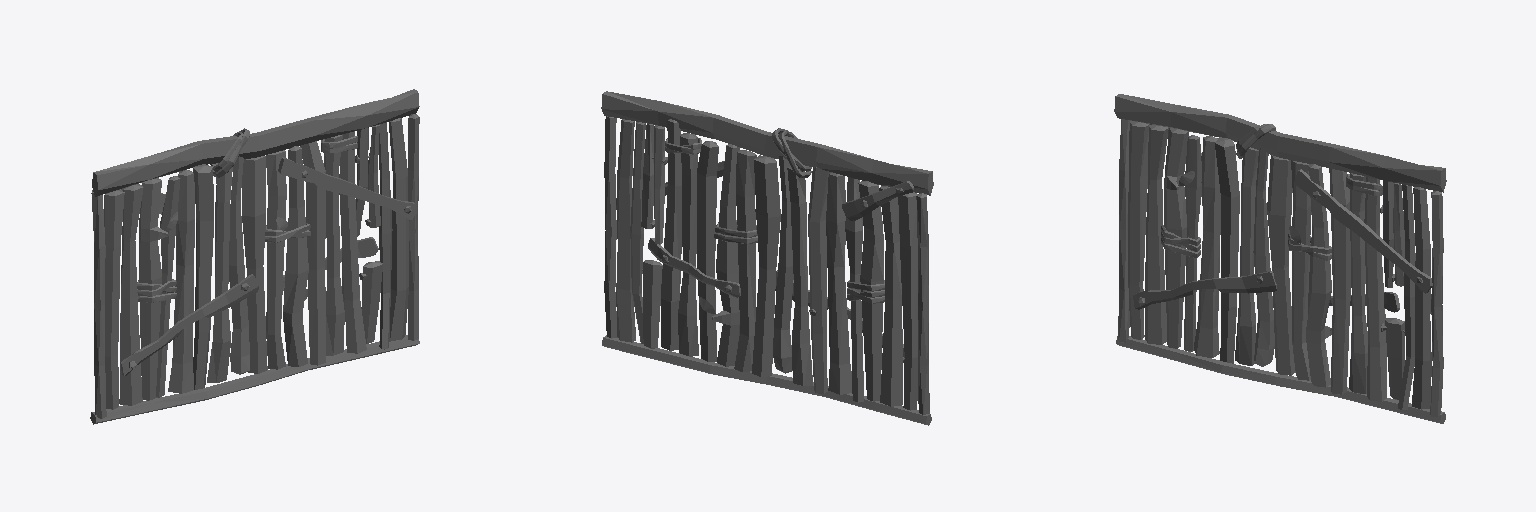
3 views of the same model, side by side, from view 1: azimuth 30°, elevation 25°; view 2: azimuth 150°, elevation 25°; view 3: azimuth 330°, elevation 25° (orthographic).
Visible parts, largest first — view 1: PBW_W1_Solid_Untitled; view 2: PBW_W1_Solid_Untitled; view 3: PBW_W1_Solid_Untitled.
Boxes of the visible parts, x1,y1,x2,y2 form: PBW_W1_Solid_Untitled: [90, 89, 419, 424]; PBW_W1_Solid_Untitled: [601, 91, 933, 425]; PBW_W1_Solid_Untitled: [1114, 94, 1446, 423].
Bounding box in the file's own units: 13.01 × 9.95 × 1.21.